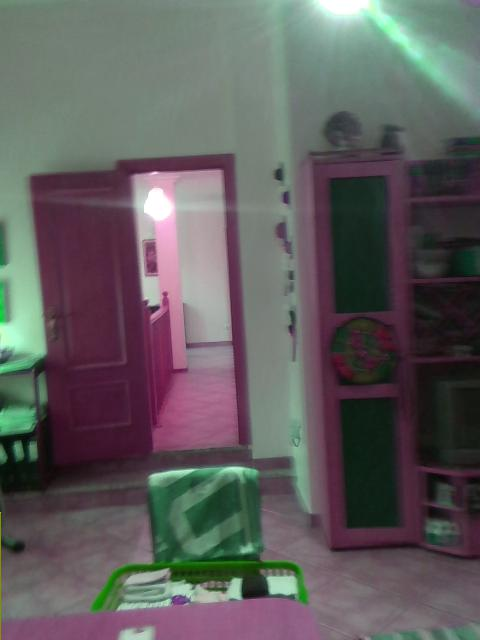open_door: (123, 162, 240, 453)
